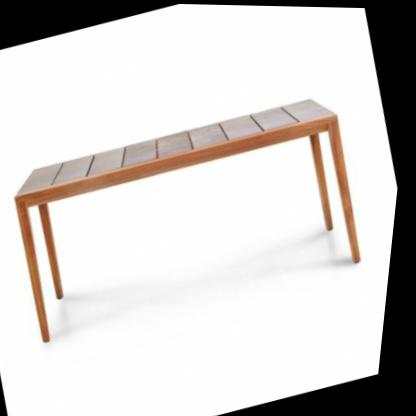Table: (0, 66, 407, 384)
